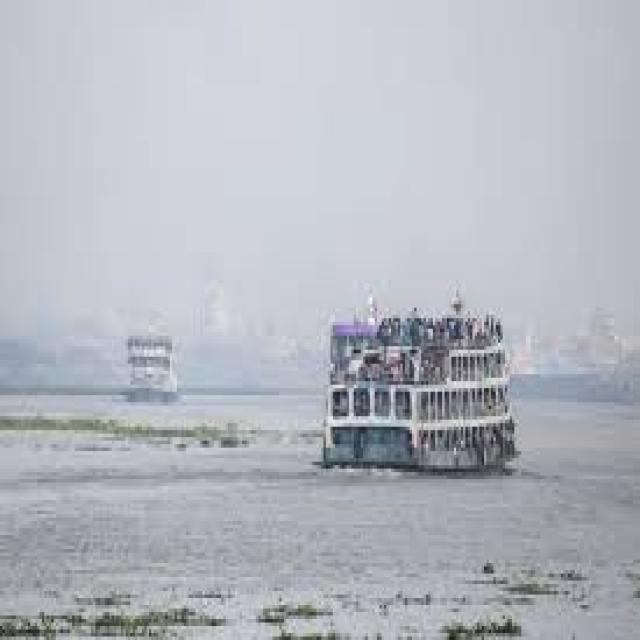passenger ship: (306, 297, 518, 485), (122, 318, 193, 413)
